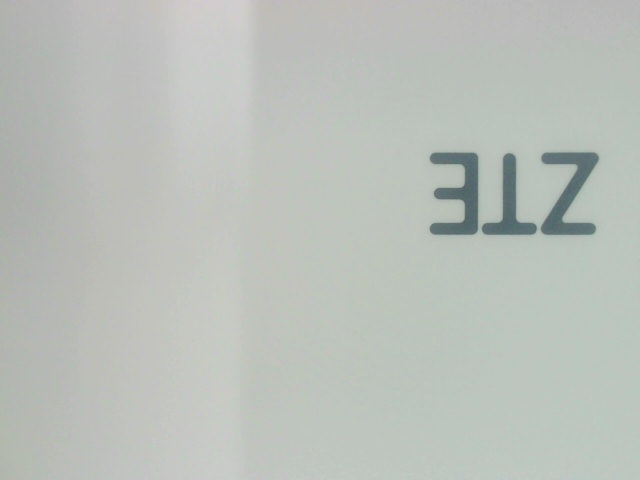AN_ZTELarge: (409, 136, 617, 244)
